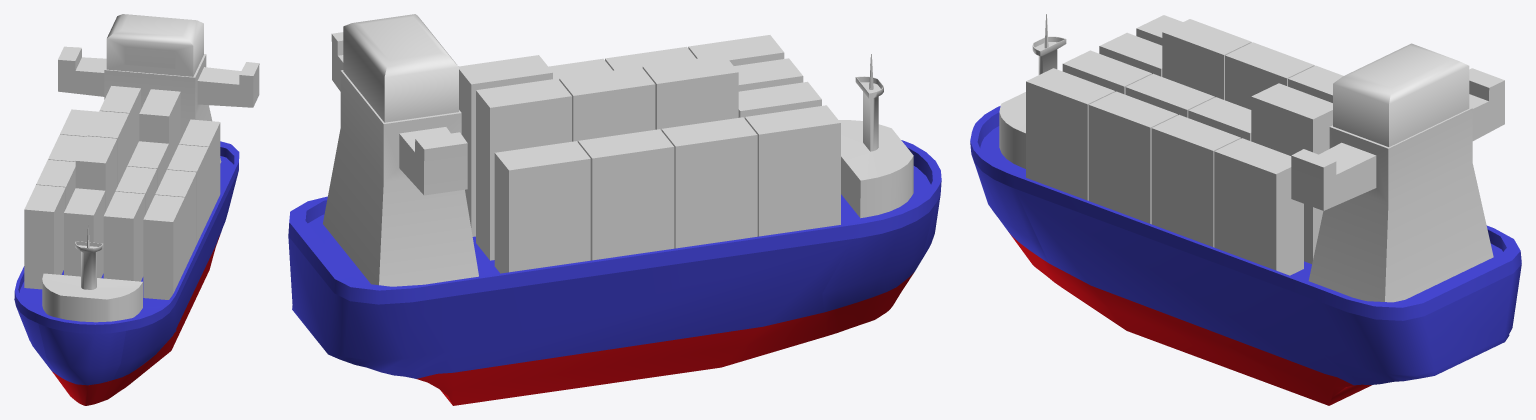
The model's file is LowPolyCargoShipFree.glb.
3 views of the same model, side by side, from view 1: azimuth 30°, elevation 25°; view 2: azimuth 150°, elevation 25°; view 3: azimuth 270°, elevation 25° (orthographic). The views are drawn at different scales.
Parts seen in each view (by area): view 1: Cube, Cube.059, Cube.053, Cube.040, Cube.036, Cube.044, Cube.048, Cube.058, Cube.034, Cube.020, Cube.035, Cube.033 (+23 smaller); view 2: Cube, Cube.045, Cube.057, Cube.058, Cube.059, Cube.048, Cube.047, Cube.046, Cube.029, Cube.030, Cube.031, Cube.032 (+15 smaller); view 3: Cube, Cube.053, Cube.033, Cube.035, Cube.034, Cube.036, Cube.059, Cube.017, Cube.058, Cube.001, Cube.018, Cube.020 (+10 smaller).
Part boxes in pixels (box(x1,y1,x2,y2)): Cube: box(14, 14, 259, 405); Cube.059: box(75, 136, 117, 190); Cube.053: box(139, 89, 180, 143); Cube.040: box(103, 191, 144, 244); Cube.036: box(143, 195, 184, 247); Cube.044: box(64, 188, 105, 240); Cube.048: box(24, 185, 65, 236); Cube.058: box(87, 111, 129, 164); Cube.034: box(167, 144, 208, 196); Cube.020: box(143, 223, 184, 273); Cube.035: box(155, 169, 196, 223); Cube.033: box(179, 119, 220, 171); Cube: box(288, 14, 941, 405); Cube.045: box(494, 141, 590, 210); Cube.057: box(476, 78, 571, 147); Cube.058: box(559, 66, 655, 135); Cube.059: box(642, 54, 738, 123); Cube.048: box(745, 105, 840, 174); Cube.047: box(661, 117, 757, 186); Cube.046: box(578, 129, 674, 197); Cube.029: box(494, 193, 590, 246); Cube.030: box(590, 183, 674, 234); Cube.031: box(674, 171, 757, 222); Cube.032: box(757, 159, 840, 210); Cube: box(970, 14, 1521, 405); Cube.053: box(1251, 83, 1332, 154); Cube.033: box(1214, 138, 1297, 211); Cube.035: box(1088, 91, 1177, 165); Cube.034: box(1151, 114, 1240, 188); Cube.036: box(1026, 68, 1115, 142); Cube.059: box(1162, 19, 1251, 92); Cube.017: box(1214, 186, 1303, 246); Cube.058: box(1225, 42, 1314, 102); Cube.001: box(1214, 223, 1303, 275); Cube.018: box(1151, 163, 1214, 223); Cube.020: box(1026, 116, 1088, 176).
Size of the model in its own units: 18.39 by 12.66 by 19.79.
